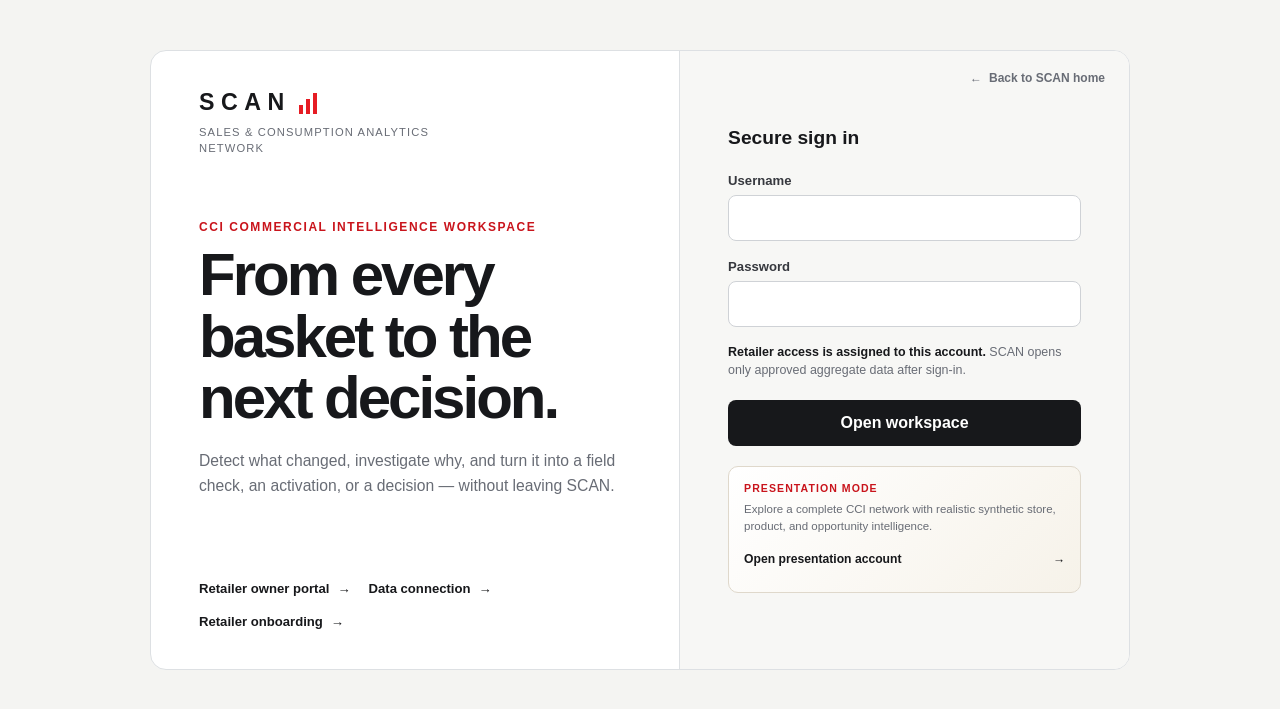
Test: CciDashboard › drills from the Stores list into a real store detail and back
Type "scan-demo-cci" into the field labelled "Username" at (905, 218), box [728, 195, 1081, 241]
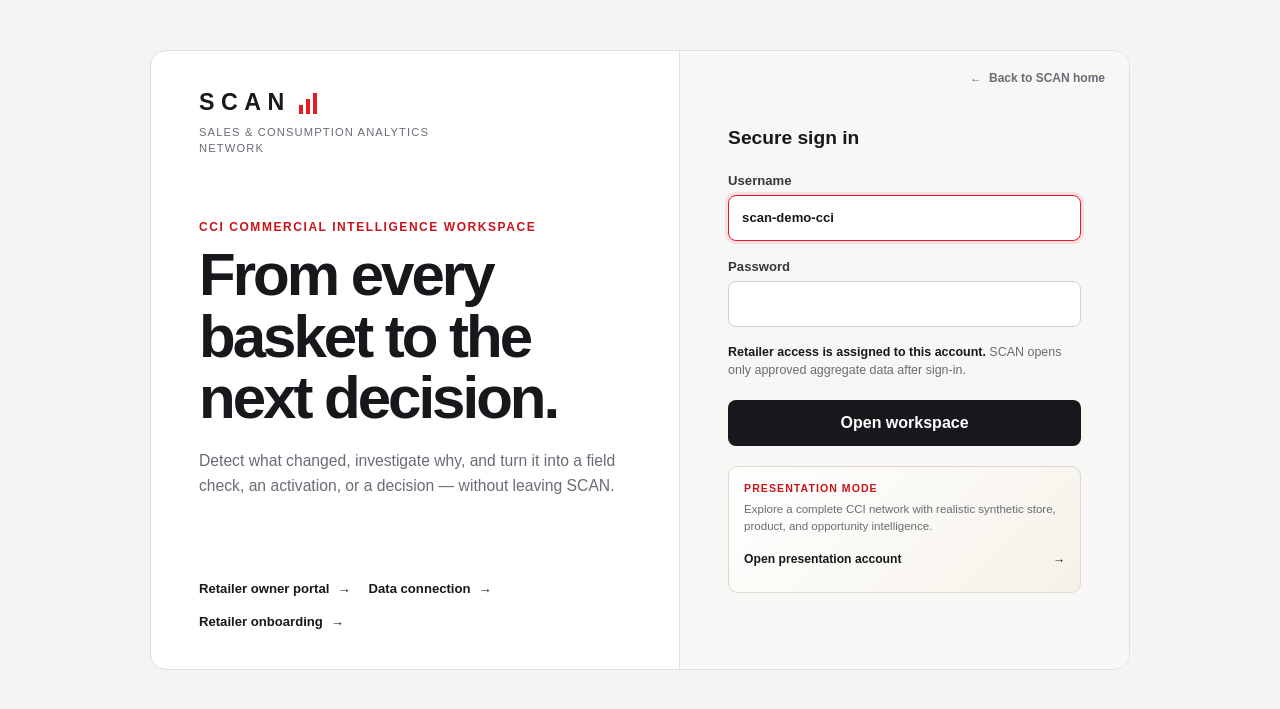
Type "demo-secret" into the password field labelled "Password" at (905, 304), box [728, 281, 1081, 327]
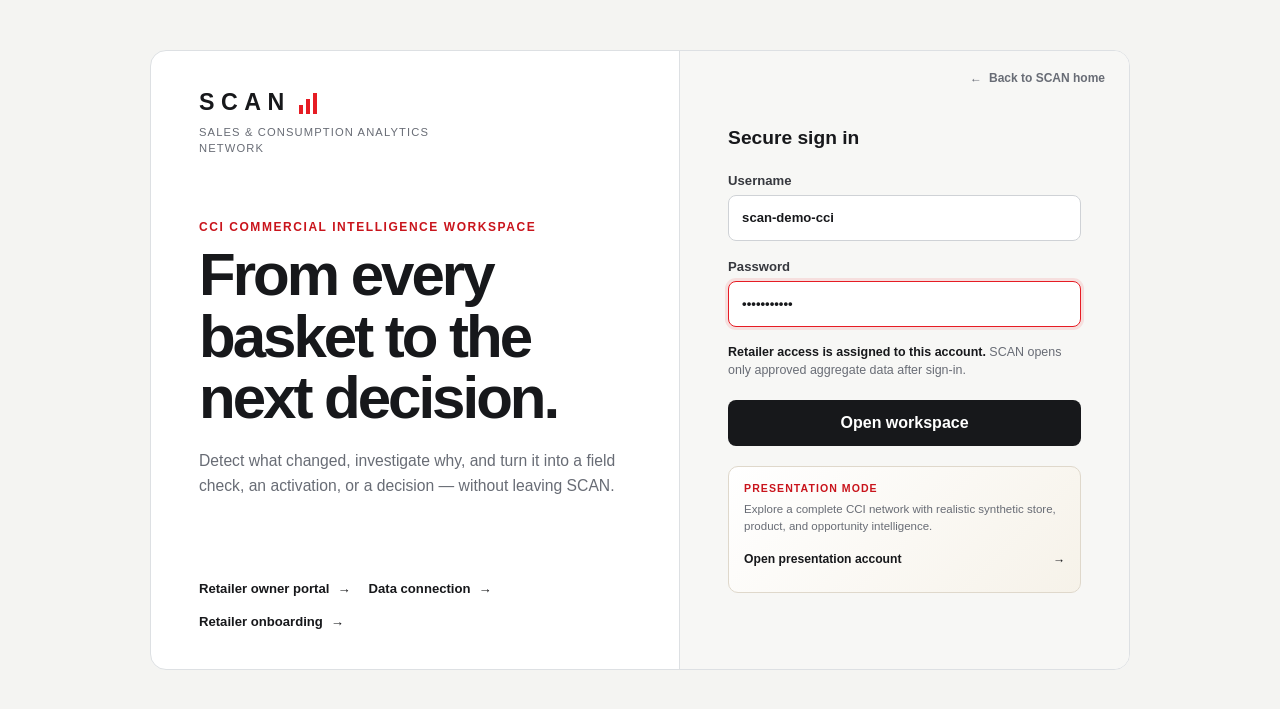
Click the button "Open workspace" at (905, 423), box [728, 400, 1081, 446]
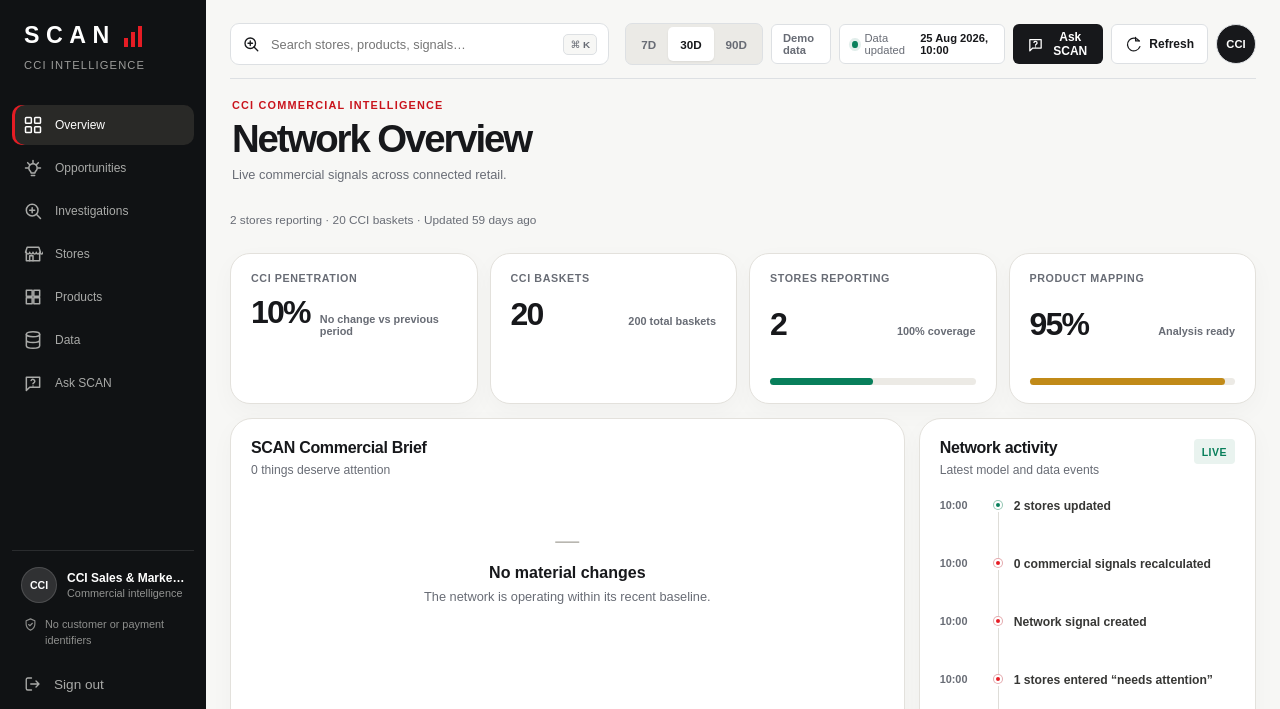
Click the button "Stores" at (103, 254), box [12, 234, 194, 274]
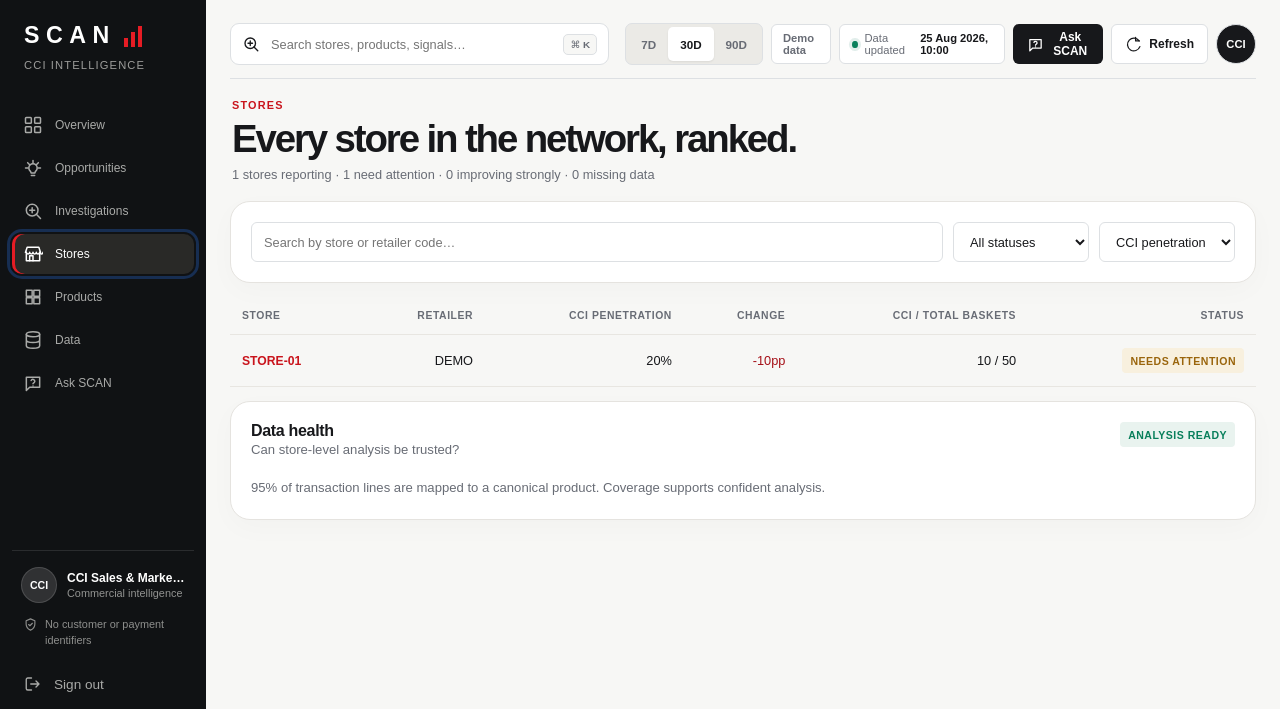
Click the button "STORE-01" at (272, 361), box [242, 354, 301, 368]
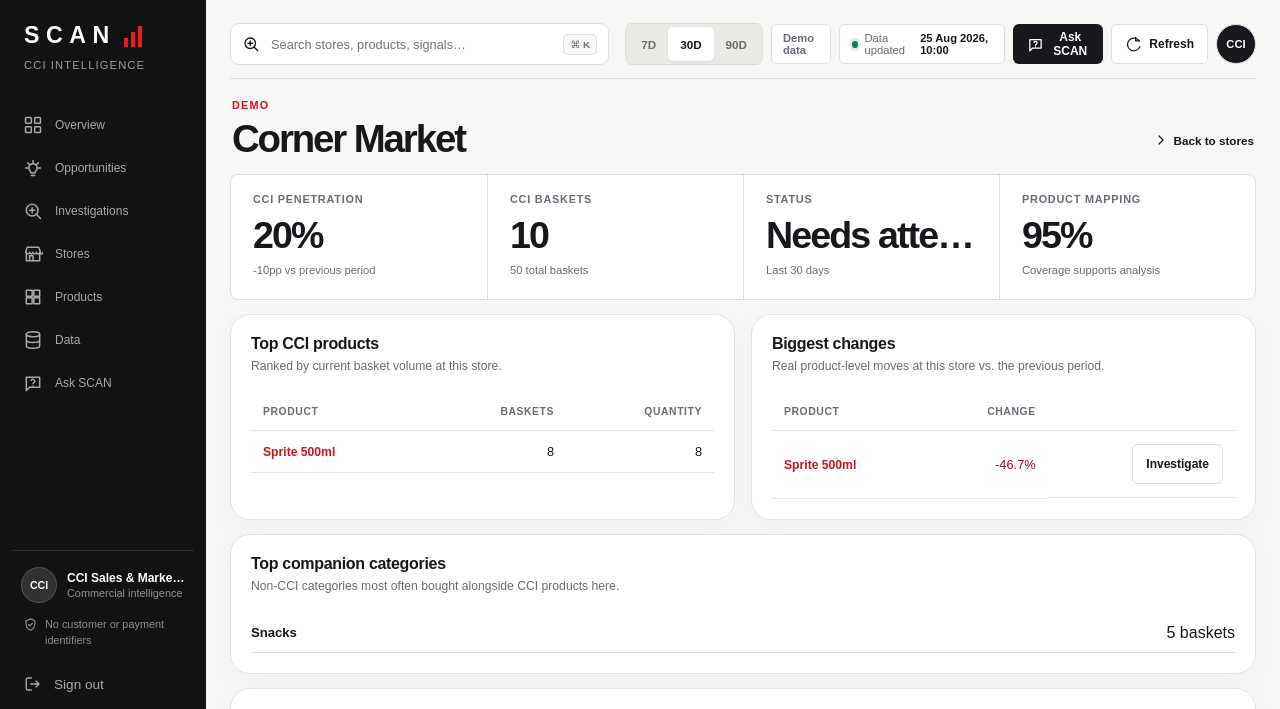
Result: the heading "Corner Market" is shown at [232, 119, 465, 158]
Result: the button "Sprite 500ml" below "Top CCI products" is shown at [263, 446, 335, 460]
Result: the text "Snacks" is shown at [251, 625, 297, 640]
Click the button "Back to stores" at (1203, 140), box [1152, 126, 1254, 154]
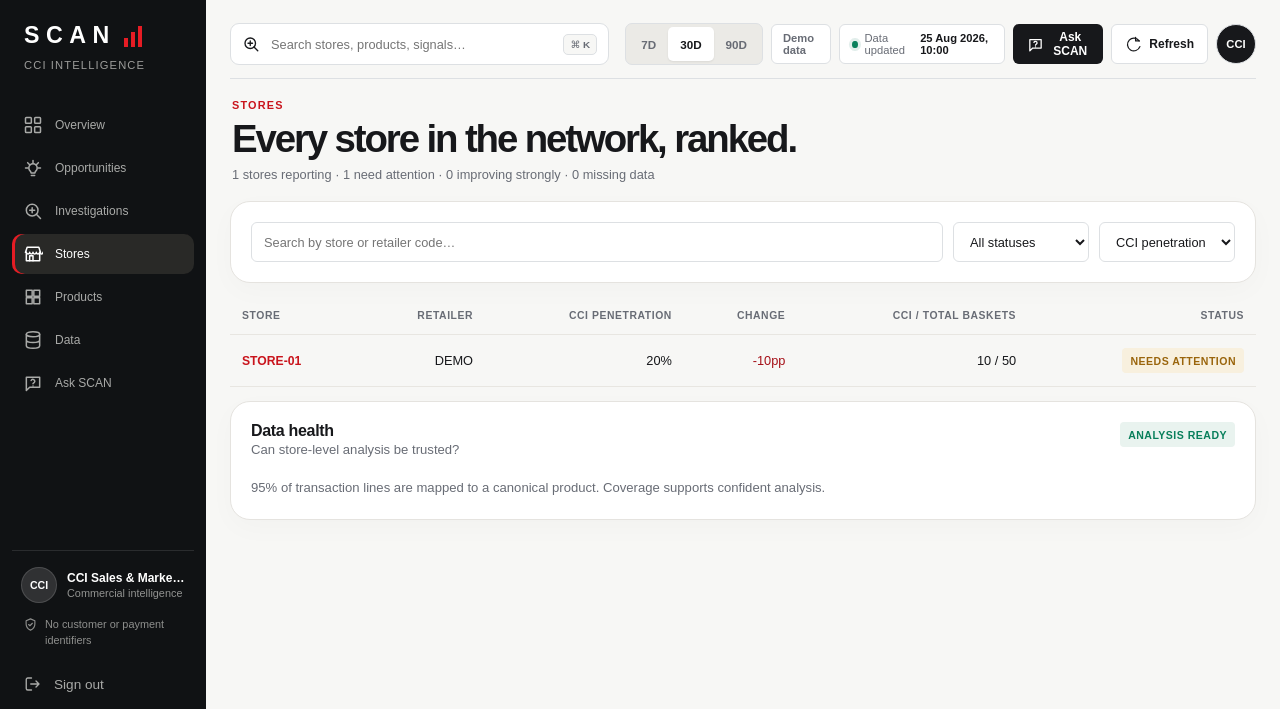
Result: the heading "Every store in the network, ranked." is shown at [232, 119, 796, 158]
